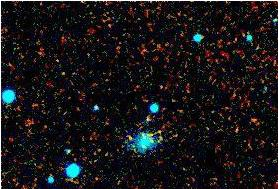star: (240, 106, 270, 136)
